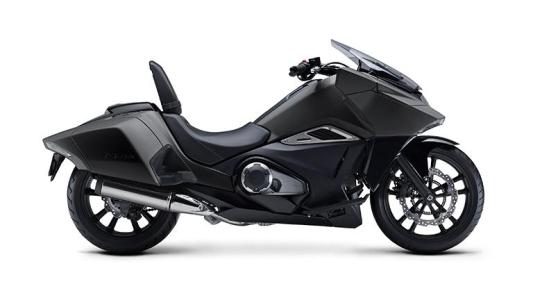motor: (35, 25, 491, 267)
